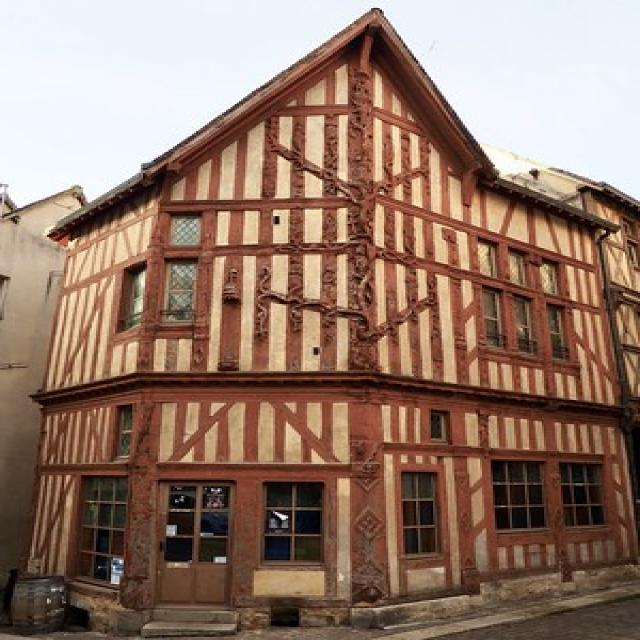Normal_building: (19, 3, 640, 629)
